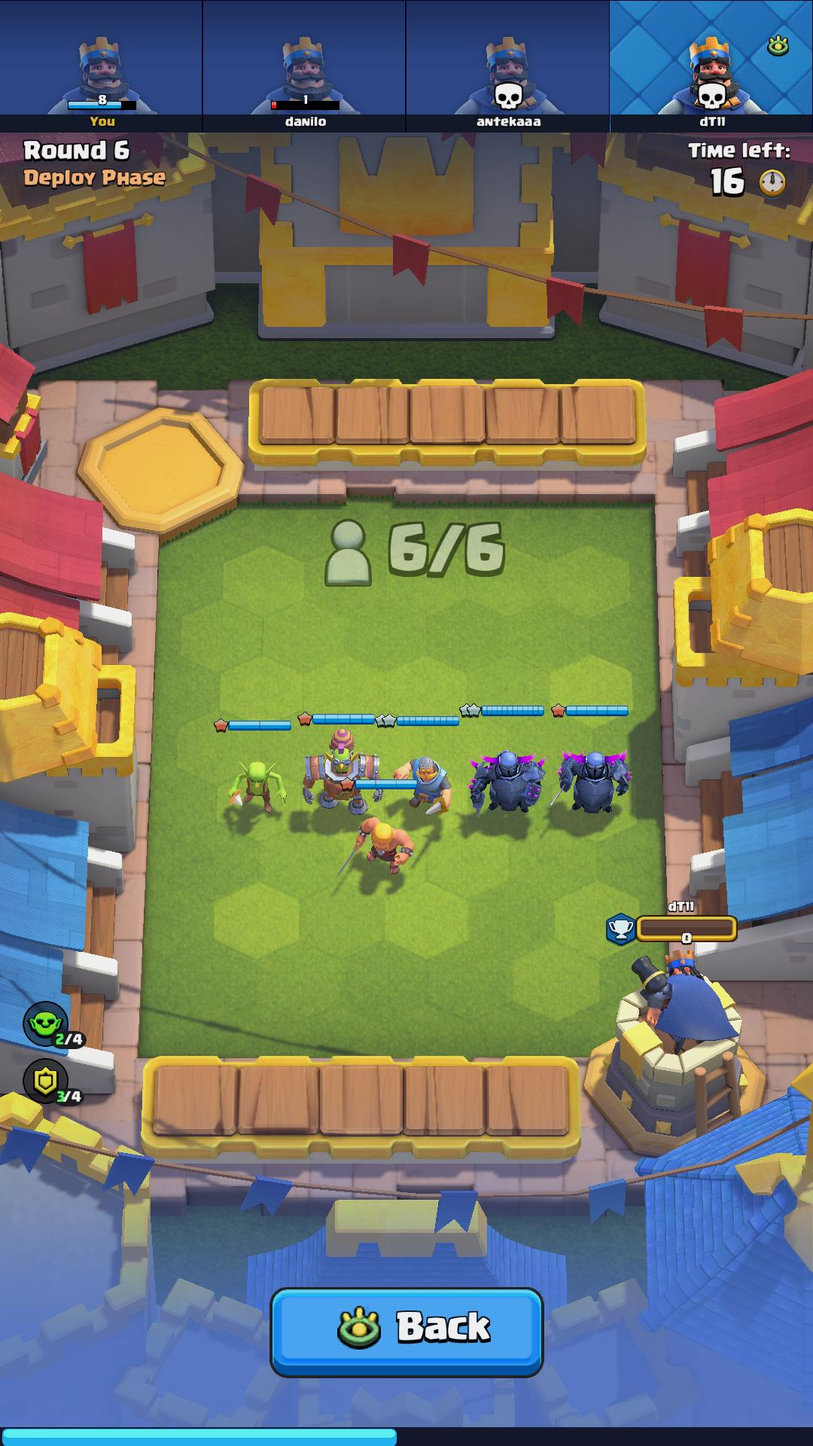barbarian: (322, 814, 417, 876)
goblin: (221, 754, 293, 826)
knight: (387, 746, 455, 822)
machine: (297, 726, 385, 815)
pekka: (463, 743, 549, 827), (548, 743, 636, 822)
